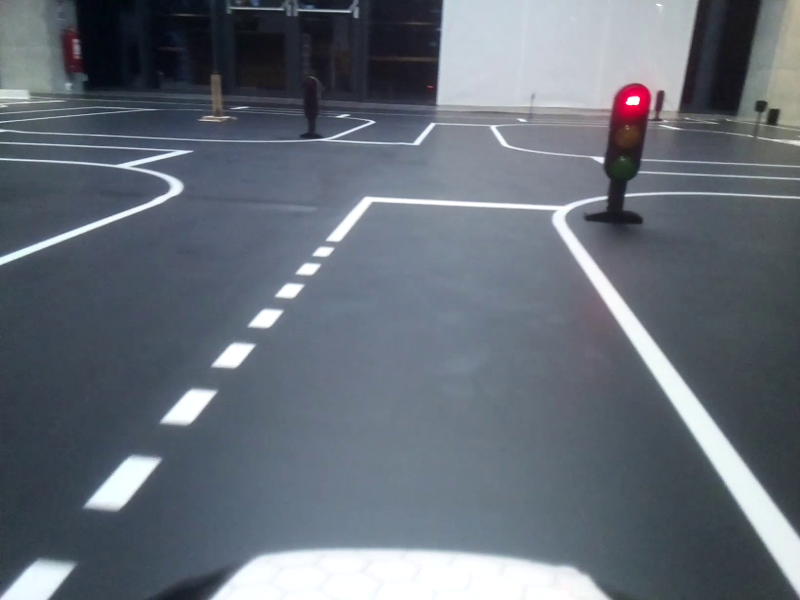traffic_red: (612, 82, 640, 182)
